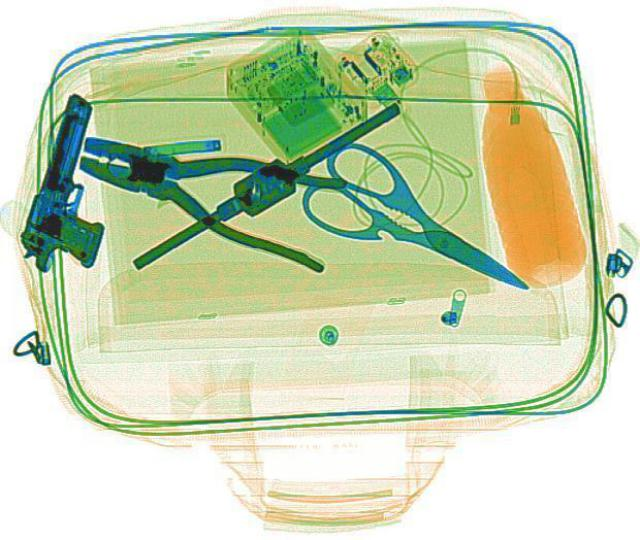Gun: (5, 90, 147, 278)
Pliers: (58, 108, 366, 271)
Scissors: (278, 133, 558, 324)
